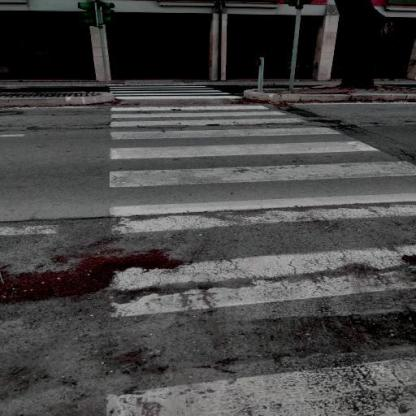crosswalk: (93, 190, 416, 324), (103, 125, 386, 164)
